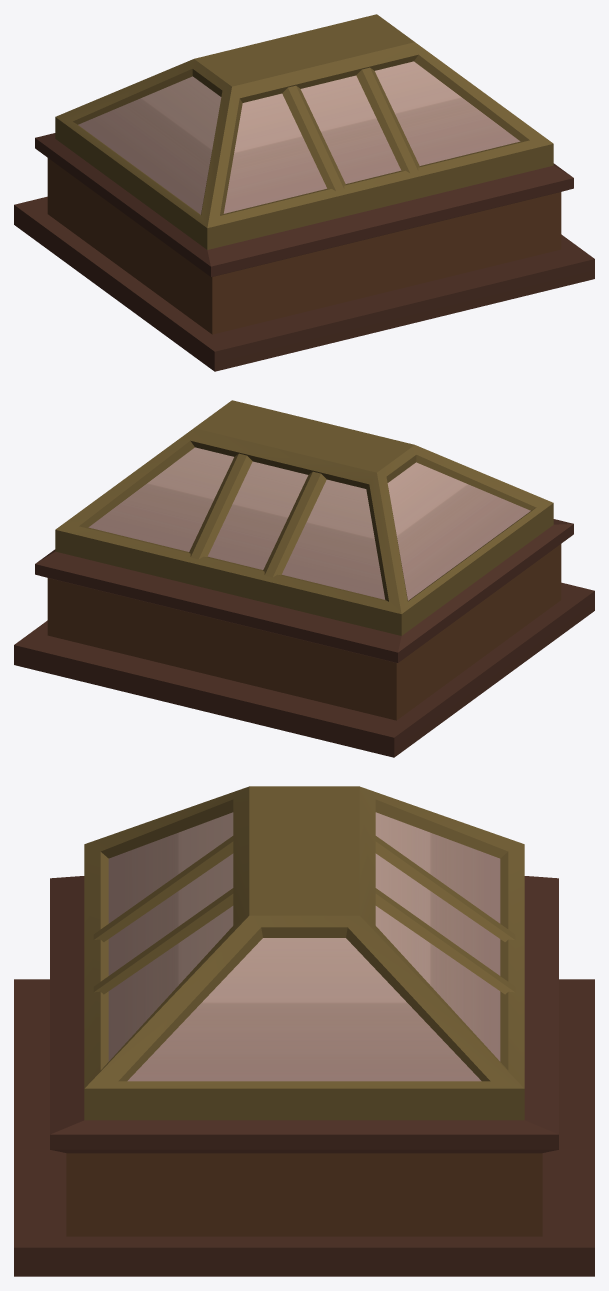
The model's file is RoofLights_4_D.fbx.
The picture shows the model from 3 angles, top to bottom: view 1: azimuth 30°, elevation 25°; view 2: azimuth 150°, elevation 25°; view 3: azimuth 270°, elevation 25°; orthographic projection. The views are drawn at different scales.
Parts seen in each view (by area): view 1: RoofLights_4_D; view 2: RoofLights_4_D; view 3: RoofLights_4_D.
Boxes of the visible parts, x1,y1,x2,y2 form: RoofLights_4_D: (14,14,594,371); RoofLights_4_D: (14,400,594,757); RoofLights_4_D: (14,786,594,1276).
Size of the model in its own units: 216 by 109 by 198.
